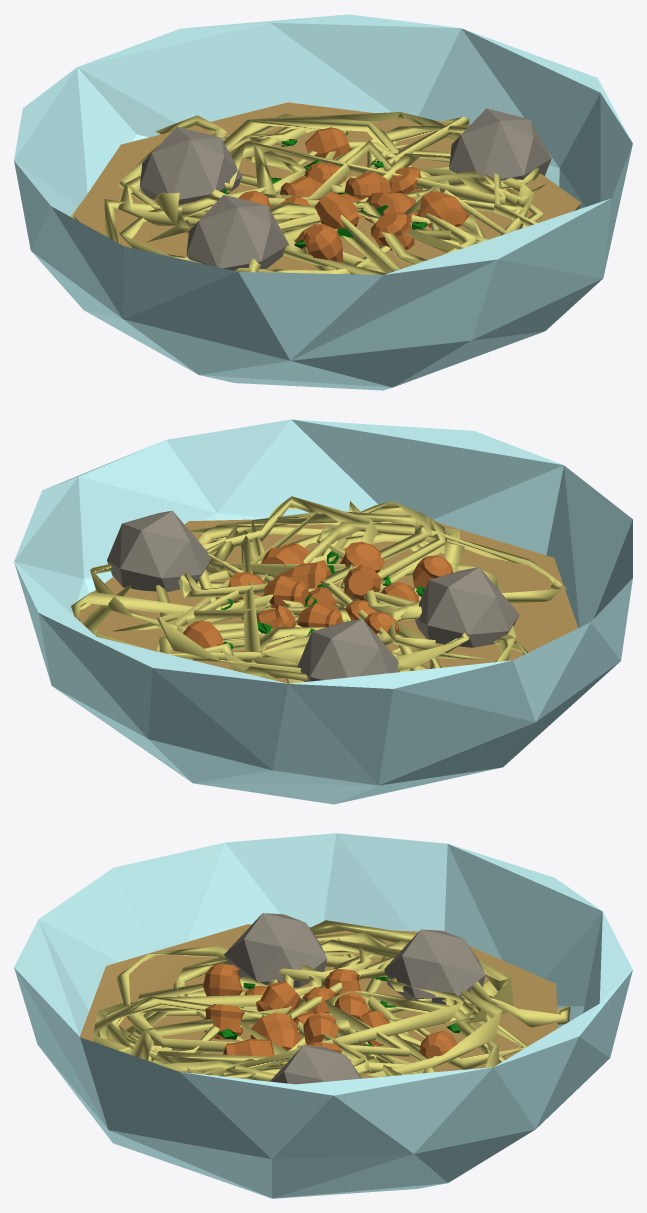
File: noodle.fbx
The picture shows the model from 3 angles, top to bottom: view 1: azimuth 30°, elevation 25°; view 2: azimuth 150°, elevation 25°; view 3: azimuth 270°, elevation 25°; orthographic projection. The views are drawn at different scales.
Visible parts, largest first — view 1: bowl, noodle, meat_ball, soup, carrot, green_onion; view 2: bowl, noodle, meat_ball, soup, carrot, green_onion; view 3: bowl, noodle, meat_ball, soup, carrot.
Boxes of the visible parts, bbox=[...] form: bowl: bbox=[14, 14, 632, 390]; noodle: bbox=[70, 112, 546, 274]; meat_ball: bbox=[139, 108, 551, 270]; soup: bbox=[73, 102, 581, 270]; carrot: bbox=[238, 127, 469, 262]; green_onion: bbox=[221, 139, 427, 248]; bowl: bbox=[14, 419, 632, 804]; noodle: bbox=[71, 496, 566, 683]; meat_ball: bbox=[107, 510, 519, 681]; soup: bbox=[78, 515, 577, 683]; carrot: bbox=[183, 541, 453, 648]; green_onion: bbox=[221, 551, 425, 652]; bowl: bbox=[14, 833, 632, 1198]; noodle: bbox=[93, 920, 570, 1081]; meat_ball: bbox=[224, 913, 485, 1084]; soup: bbox=[80, 924, 557, 1078]; carrot: bbox=[203, 963, 456, 1058].
Bounding box in the file's own units: 2.06 × 0.7242 × 2.08.
